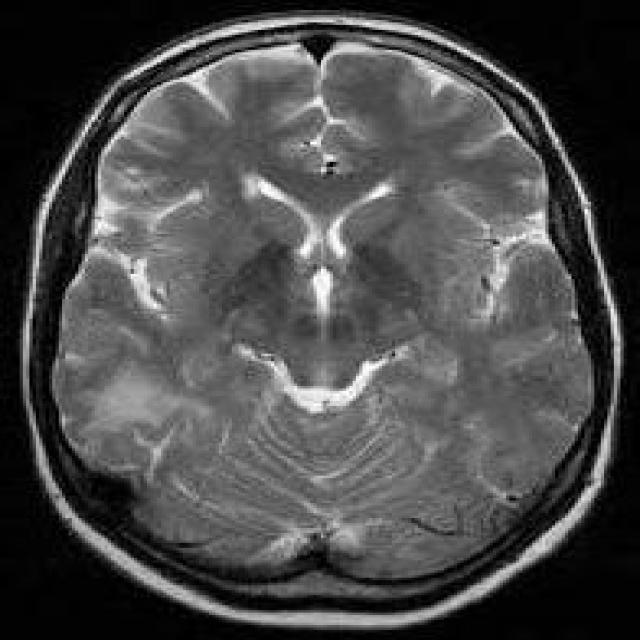No_Tumor: (21, 15, 621, 628)
